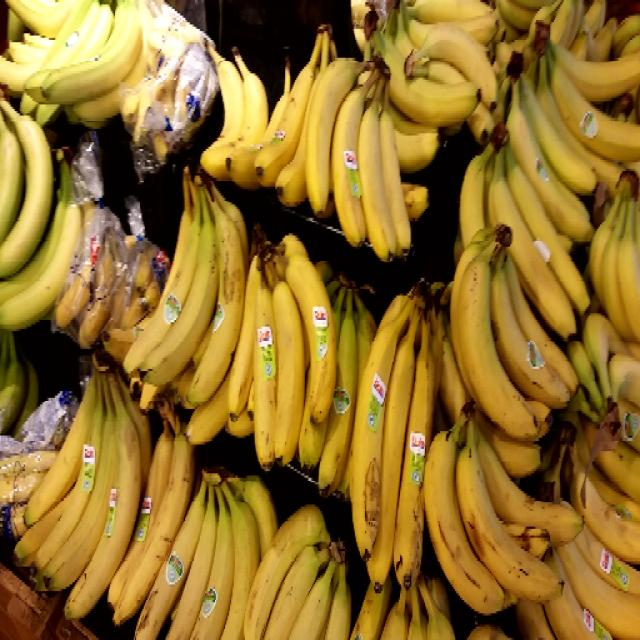banana: (459, 21, 640, 343), (197, 24, 418, 264), (11, 340, 150, 640), (419, 386, 591, 622), (118, 157, 248, 434), (344, 274, 452, 607), (216, 222, 348, 488), (445, 218, 582, 448), (130, 464, 280, 640), (106, 389, 200, 640), (0, 0, 156, 144)
